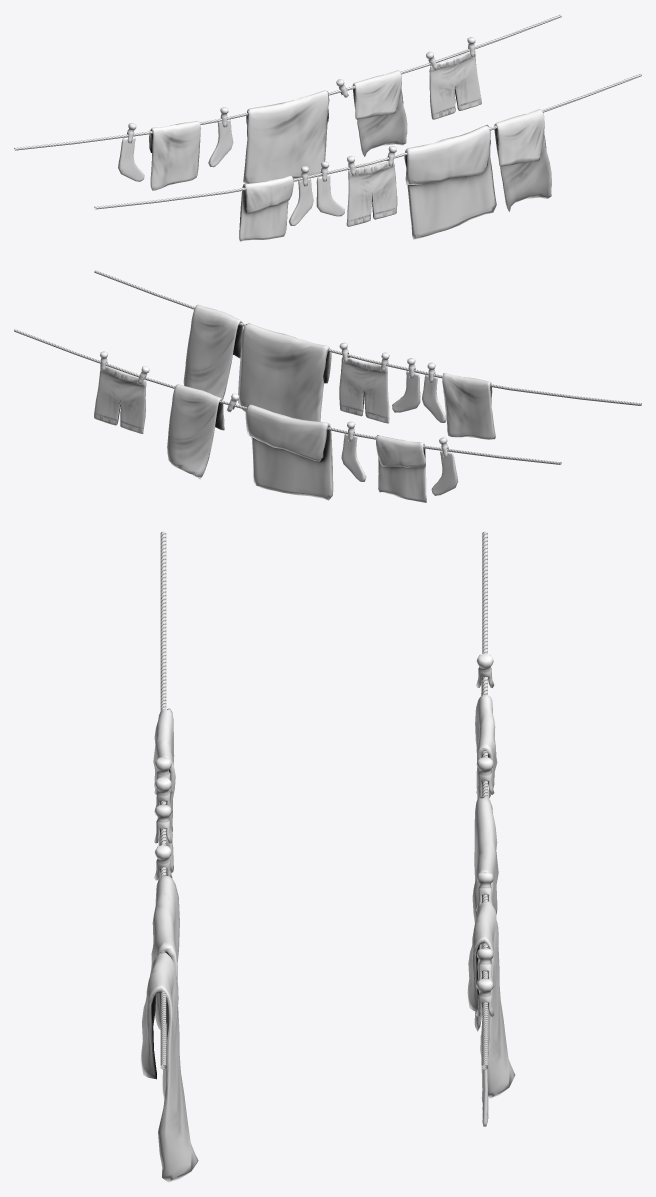
File: clothesrope.fbx
3 renders of one model, top to bottom at view 1: azimuth 30°, elevation 25°; view 2: azimuth 150°, elevation 25°; view 3: azimuth 270°, elevation 25°, orthographic. The views are drawn at different scales.
Parts seen in each view (by area): view 1: cloth2, cloth2_2, cloth1, cloth1_2, cloth3_2, cloth3, pants, pants_2, rope, rope_, sock2, sock2_2 (+2 smaller); view 2: cloth2, cloth2_2, cloth1, cloth1_2, cloth3, cloth3_2, pants_2, pants, rope, rope_, sock2_2, sock2 (+2 smaller); view 3: cloth1, cloth1_2, cloth2, cloth2_2, rope, rope_, cloth3_2, cloth3.
Part boxes in pixels (bbox=[...]): cloth2: bbox=[404, 124, 496, 239]; cloth2_2: bbox=[243, 90, 329, 183]; cloth1: bbox=[494, 109, 551, 211]; cloth1_2: bbox=[352, 70, 407, 156]; cloth3_2: bbox=[149, 121, 200, 190]; cloth3: bbox=[239, 175, 293, 241]; pants: bbox=[346, 160, 397, 226]; pants_2: bbox=[429, 51, 481, 119]; rope: bbox=[94, 73, 641, 209]; rope_: bbox=[14, 14, 561, 150]; sock2: bbox=[316, 174, 344, 216]; sock2_2: bbox=[118, 136, 144, 181]; cloth2: bbox=[238, 323, 331, 421]; cloth2_2: bbox=[245, 404, 333, 500]; cloth1: bbox=[183, 304, 243, 399]; cloth1_2: bbox=[167, 384, 224, 479]; cloth3: bbox=[442, 373, 495, 439]; cloth3_2: bbox=[376, 435, 426, 502]; pants_2: bbox=[94, 364, 146, 433]; pants: bbox=[339, 357, 389, 423]; rope: bbox=[94, 270, 641, 405]; rope_: bbox=[14, 329, 561, 464]; sock2_2: bbox=[431, 451, 458, 495]; sock2: bbox=[392, 371, 420, 412]; cloth1: bbox=[140, 953, 198, 1182]; cloth1_2: bbox=[467, 901, 515, 1098]; cloth2: bbox=[150, 875, 179, 1099]; cloth2_2: bbox=[472, 796, 498, 1031]; rope: bbox=[160, 531, 166, 1069]; rope_: bbox=[482, 531, 487, 1069]; cloth3_2: bbox=[475, 694, 497, 799]; cloth3: bbox=[153, 708, 175, 873].
Size of the model in its own units: 1960 by 391 by 582.
Materials: 1 (1 with a texture image).
